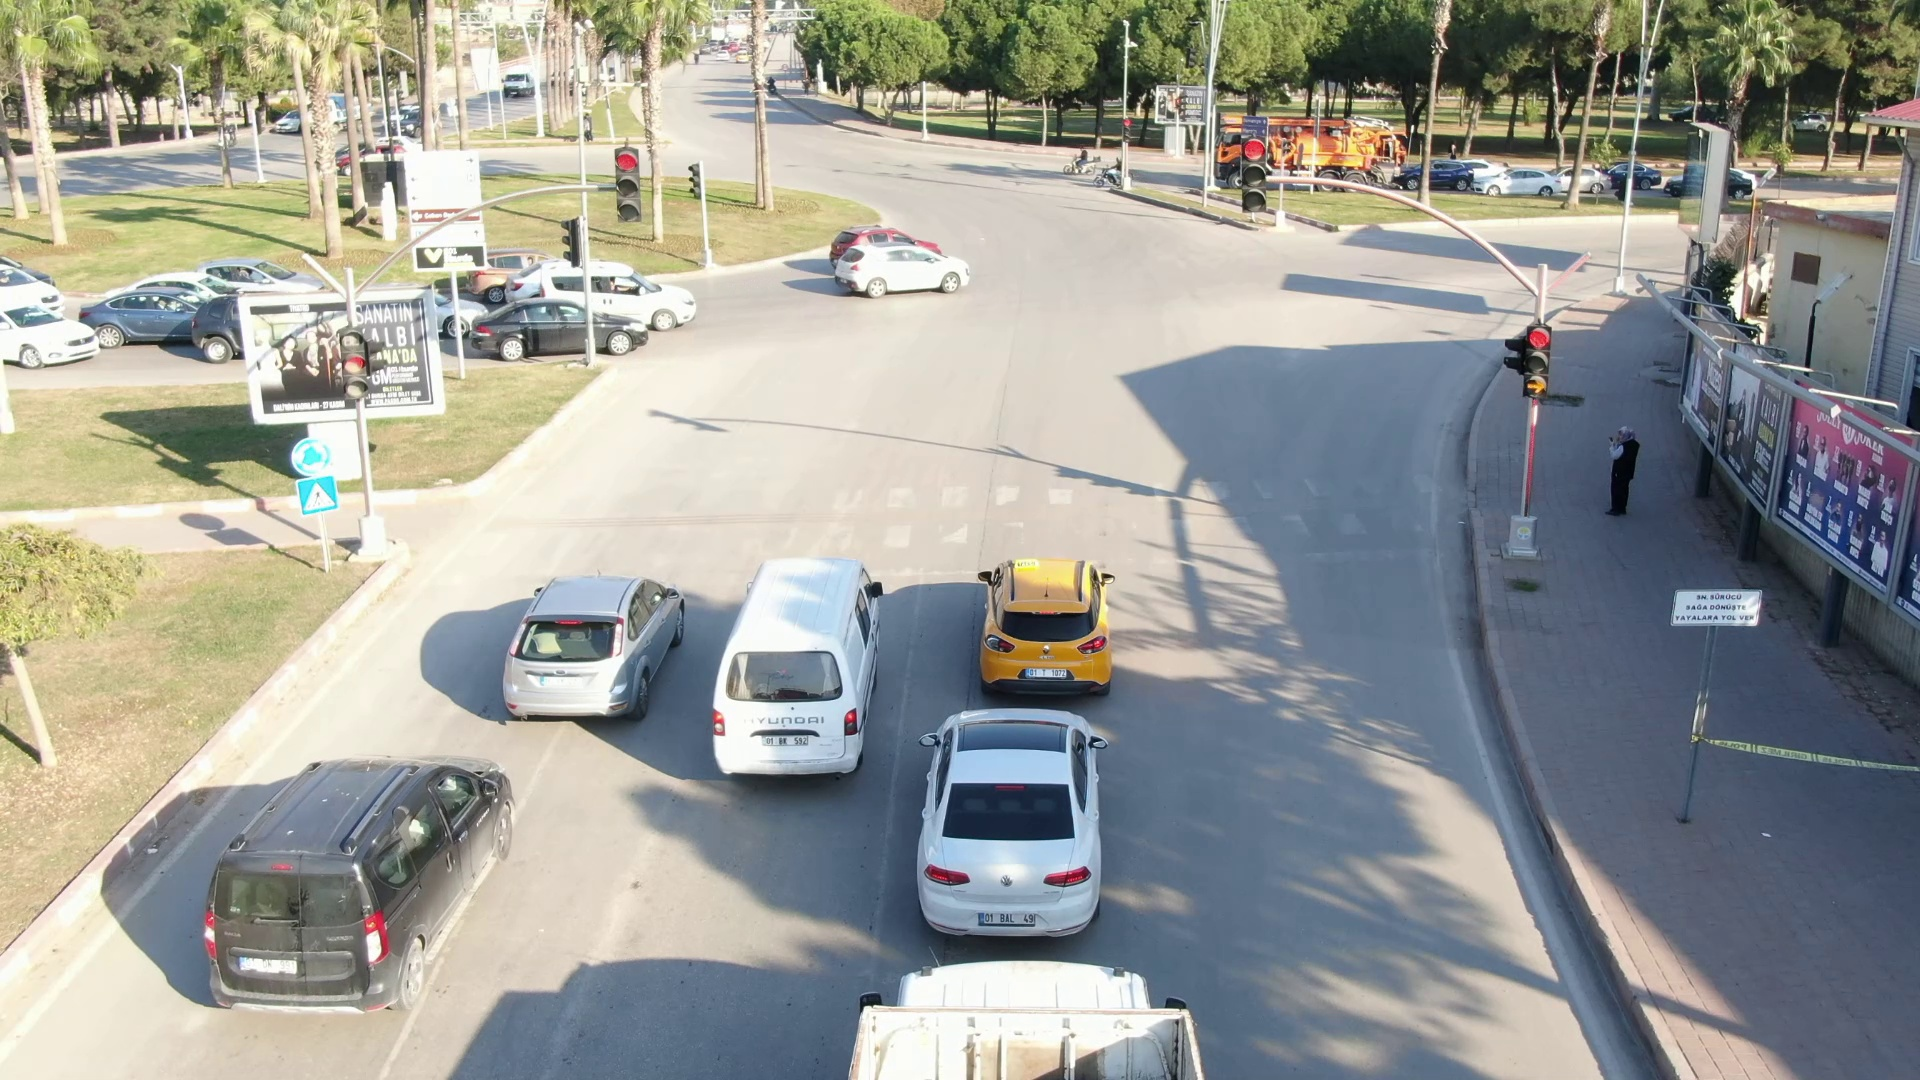car: (198, 757, 515, 1023), (917, 698, 1119, 955), (690, 553, 888, 812), (498, 565, 690, 739), (957, 549, 1139, 721), (823, 243, 968, 309)
person: (1598, 417, 1647, 535)
